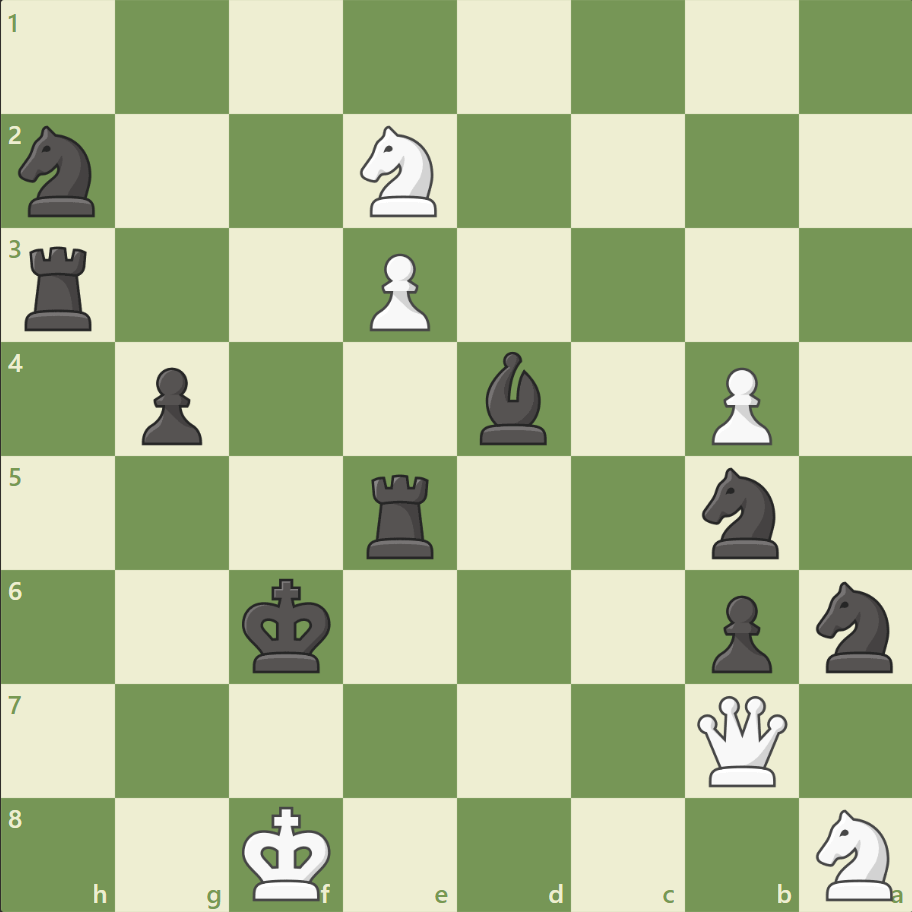K: (238, 798, 338, 906)
N: (351, 121, 449, 223), (806, 802, 903, 904)
P: (701, 359, 776, 450), (361, 246, 435, 337)
Q: (691, 690, 790, 789)
b: (471, 347, 555, 449)
k: (238, 571, 338, 679)
n: (692, 461, 789, 564), (806, 575, 903, 677), (11, 121, 108, 223)
p: (701, 586, 776, 677), (133, 359, 208, 450)
r: (19, 239, 102, 336), (360, 466, 442, 563)
